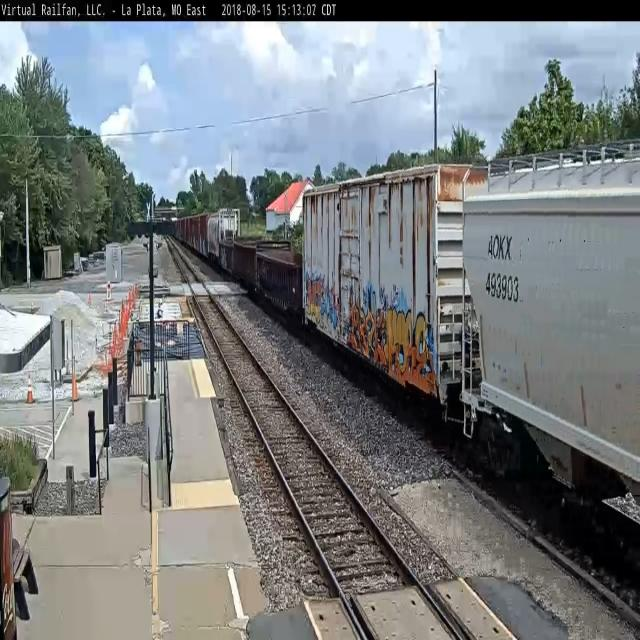boxcar: (292, 150, 478, 430)
gondola: (253, 240, 303, 324)
hopper: (452, 144, 640, 560)
